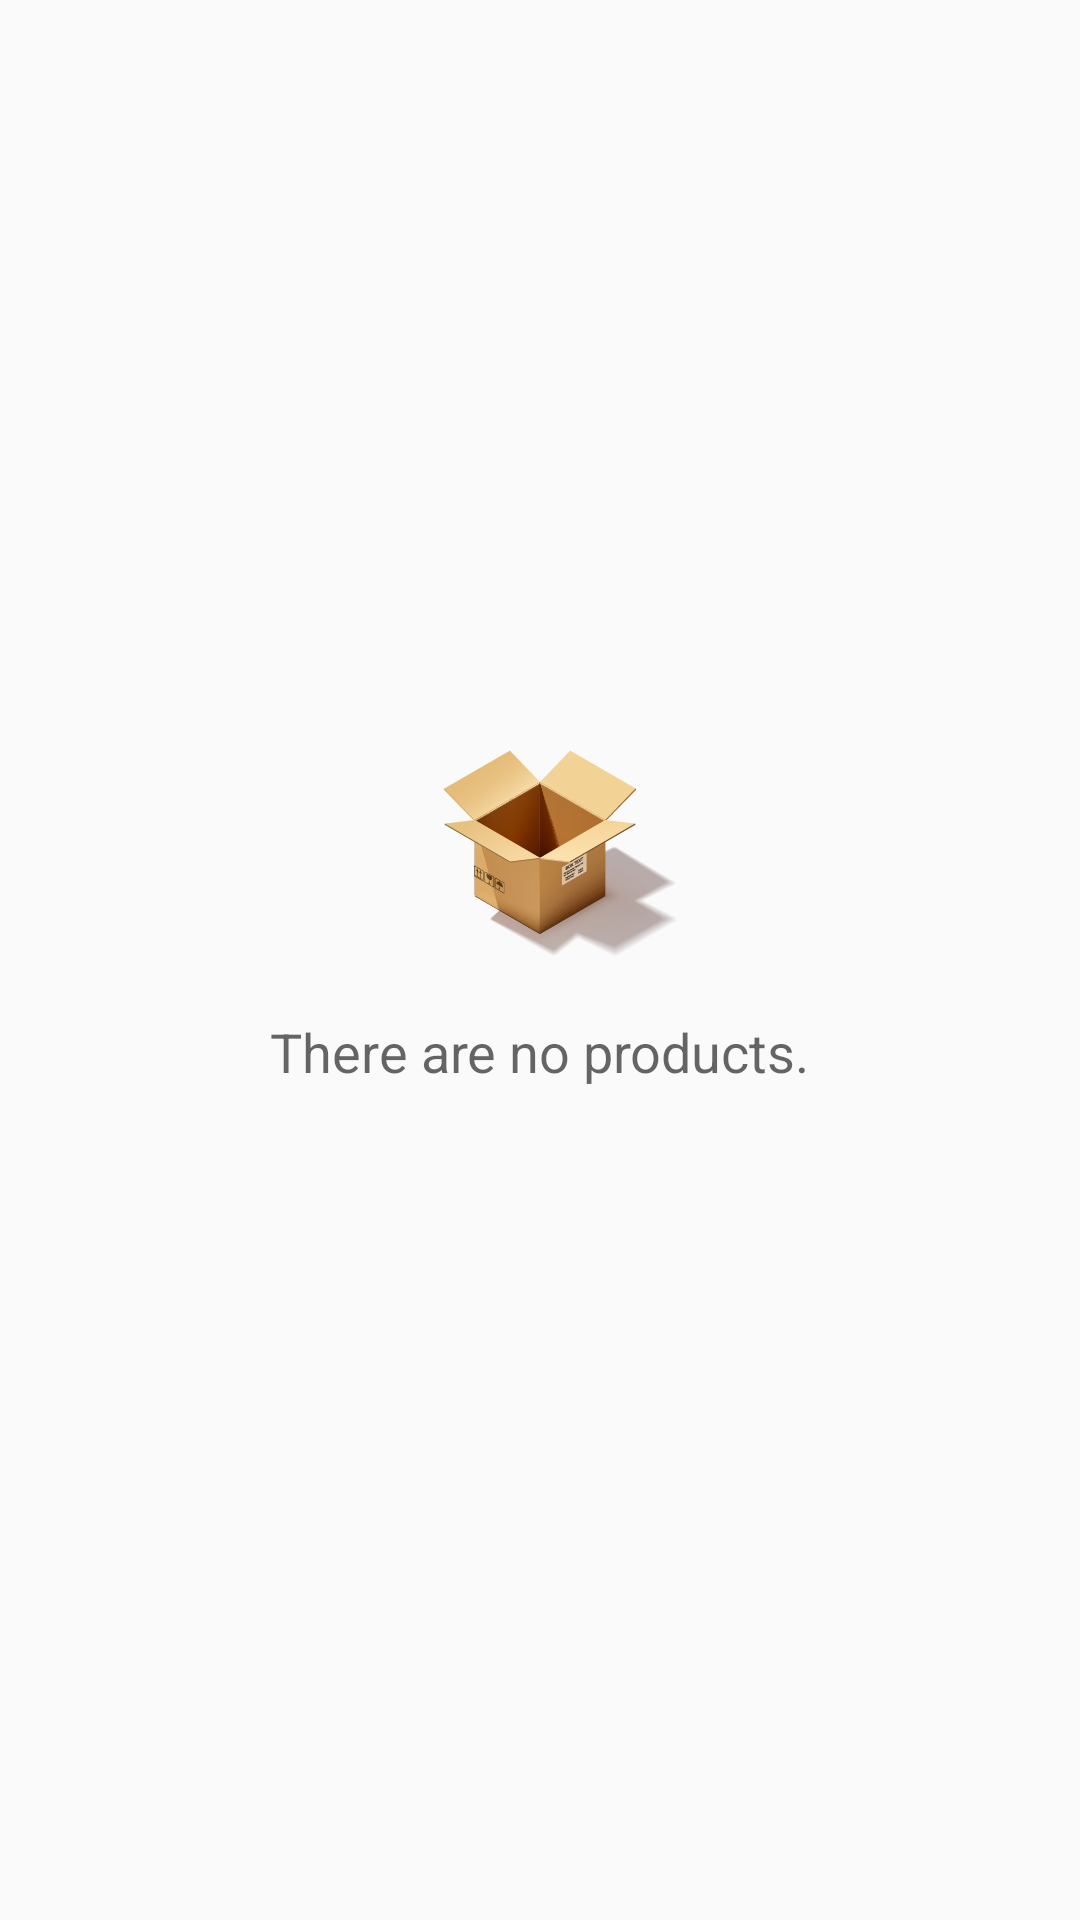

Icons on this 1080×1920 Android screen, each with its box as Rect(x1, y1, x2, y2):
empty box: Rect(444, 751, 673, 954)
